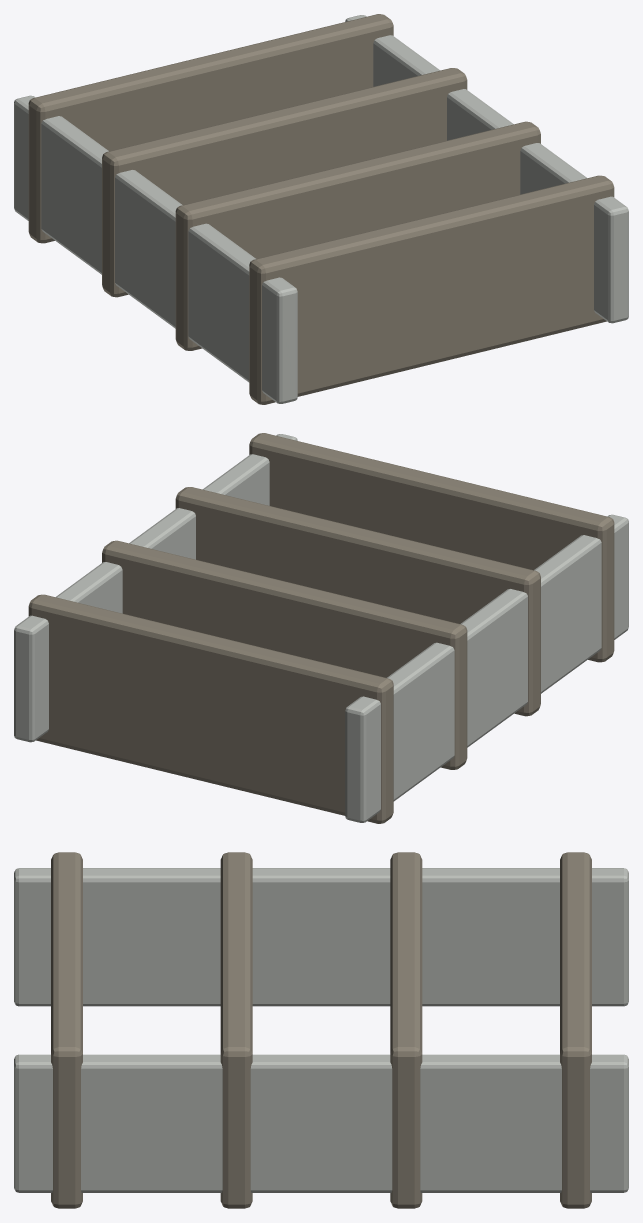
The model's file is OfficeShelf.fbx.
3 renders of one model, top to bottom at view 1: azimuth 30°, elevation 25°; view 2: azimuth 150°, elevation 25°; view 3: azimuth 270°, elevation 25°, orthographic. The views are drawn at different scales.
Visible parts, largest first — view 1: shelf plank, shelf upright, shelf plank.003, shelf plank.001, shelf plank.002, shelf upright.001; view 2: shelf plank.003, shelf upright, shelf plank, shelf plank.002, shelf plank.001, shelf upright.001; view 3: shelf upright.001, shelf upright, shelf plank.001, shelf plank.002, shelf plank, shelf plank.003.
Part boxes in pixels (left/top/right/bottom): shelf plank: left=249, top=175, right=614, bottom=404; shelf upright: left=14, top=95, right=297, bottom=403; shelf plank.003: left=28, top=14, right=393, bottom=243; shelf plank.001: left=175, top=121, right=540, bottom=350; shelf plank.002: left=102, top=68, right=467, bottom=297; shelf upright.001: left=345, top=15, right=628, bottom=323; shelf plank.003: left=28, top=594, right=393, bottom=823; shelf upright: left=345, top=514, right=628, bottom=822; shelf plank: left=249, top=433, right=614, bottom=662; shelf plank.002: left=102, top=540, right=467, bottom=769; shelf plank.001: left=175, top=487, right=540, bottom=716; shelf upright.001: left=14, top=434, right=297, bottom=742; shelf upright.001: left=14, top=1054, right=628, bottom=1192; shelf upright: left=14, top=868, right=628, bottom=1006; shelf plank.001: left=220, top=852, right=252, bottom=1208; shelf plank.002: left=390, top=852, right=422, bottom=1208; shelf plank: left=51, top=852, right=82, bottom=1208; shelf plank.003: left=560, top=852, right=591, bottom=1208.
Bounding box in the file's own units: 112 × 42 × 145.
